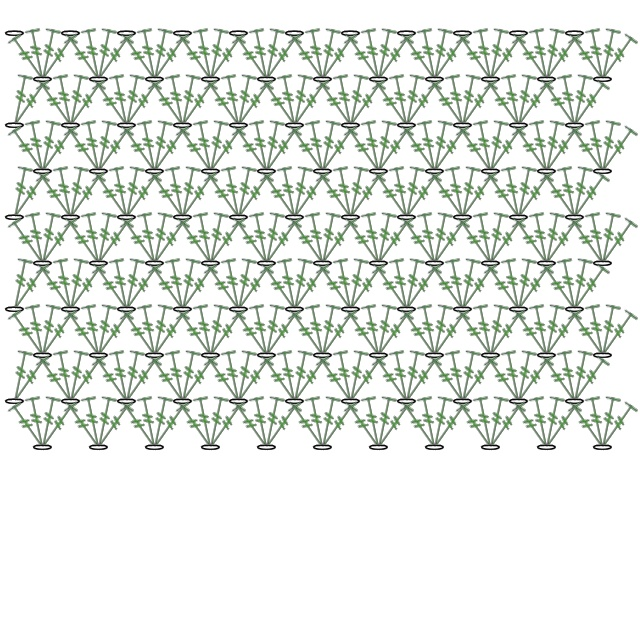chain: (4, 30, 26, 38), (60, 30, 82, 38), (116, 30, 138, 38), (172, 30, 194, 38), (228, 30, 250, 38), (284, 30, 306, 38), (340, 30, 362, 38), (396, 30, 418, 38), (452, 30, 474, 38), (508, 30, 530, 38), (564, 30, 586, 38), (32, 76, 54, 84), (88, 76, 110, 84), (144, 76, 166, 84), (200, 76, 222, 84), (256, 76, 278, 84), (312, 76, 334, 84), (368, 76, 390, 84), (424, 76, 446, 84), (480, 76, 502, 84), (536, 76, 558, 84), (592, 76, 614, 84), (4, 122, 26, 130), (60, 122, 82, 130), (116, 122, 138, 130), (172, 122, 194, 130), (228, 122, 250, 130), (284, 122, 306, 130), (340, 122, 362, 130), (396, 122, 418, 130), (452, 122, 474, 130), (508, 122, 530, 130), (564, 122, 586, 130), (32, 168, 54, 176), (88, 168, 110, 176), (144, 168, 166, 176), (200, 168, 222, 176), (256, 168, 278, 176), (312, 168, 334, 176), (368, 168, 390, 176), (424, 168, 446, 176), (480, 168, 502, 176), (536, 168, 558, 176), (592, 168, 614, 176), (4, 214, 26, 222), (60, 214, 82, 222), (116, 214, 138, 222), (172, 214, 194, 222), (228, 214, 250, 222), (284, 214, 306, 222), (340, 214, 362, 222), (396, 214, 418, 222), (452, 214, 474, 222), (508, 214, 530, 222), (564, 214, 586, 222), (32, 260, 54, 268), (88, 260, 110, 268), (144, 260, 166, 268), (200, 260, 222, 268), (256, 260, 278, 268), (312, 260, 334, 268), (368, 260, 390, 268), (424, 260, 446, 268), (480, 260, 502, 268), (536, 260, 558, 268), (592, 260, 614, 268), (4, 306, 26, 314), (60, 306, 82, 314), (116, 306, 138, 314), (172, 306, 194, 314), (228, 306, 250, 314), (284, 306, 306, 314), (340, 306, 362, 314), (396, 306, 418, 314), (452, 306, 474, 314), (508, 306, 530, 314), (564, 306, 586, 314), (32, 352, 54, 360), (88, 352, 110, 360), (144, 352, 166, 360), (200, 352, 222, 360), (256, 352, 278, 360), (312, 352, 334, 360), (368, 352, 390, 360), (424, 352, 446, 360), (480, 352, 502, 360), (536, 352, 558, 360), (592, 352, 614, 360), (4, 398, 26, 406), (60, 398, 82, 406), (116, 398, 138, 406), (172, 398, 194, 406), (228, 398, 250, 406), (284, 398, 306, 406), (340, 398, 362, 406), (396, 398, 418, 406), (452, 398, 474, 406), (508, 398, 530, 406), (564, 398, 586, 406), (32, 444, 54, 452), (88, 444, 110, 452), (144, 444, 166, 452), (200, 444, 222, 452), (256, 444, 278, 452), (312, 444, 334, 452), (368, 444, 390, 452), (424, 444, 446, 452), (480, 444, 502, 452), (536, 444, 558, 452), (592, 444, 614, 452)
fan: (6, 32, 50, 85), (36, 32, 80, 85), (62, 32, 106, 85), (92, 32, 136, 85), (118, 32, 162, 85), (148, 32, 192, 85), (174, 32, 218, 85), (204, 32, 248, 85), (230, 32, 274, 85), (260, 32, 304, 85), (286, 32, 330, 85), (316, 32, 360, 85), (342, 32, 386, 85), (372, 32, 416, 85), (398, 32, 442, 85), (428, 32, 472, 85), (454, 32, 498, 85), (484, 32, 528, 85), (510, 32, 554, 85), (540, 32, 584, 85), (566, 32, 610, 85), (596, 32, 640, 85), (8, 78, 52, 131), (34, 78, 78, 131), (64, 78, 108, 131), (90, 78, 134, 131), (120, 78, 164, 131), (146, 78, 190, 131), (176, 78, 220, 131), (202, 78, 246, 131), (232, 78, 276, 131), (258, 78, 302, 131), (288, 78, 332, 131), (314, 78, 358, 131), (344, 78, 388, 131), (370, 78, 414, 131), (400, 78, 444, 131), (426, 78, 470, 131), (456, 78, 500, 131), (482, 78, 526, 131), (512, 78, 556, 131), (538, 78, 582, 131), (568, 78, 612, 131), (6, 124, 50, 177), (36, 124, 80, 177), (62, 124, 106, 177), (92, 124, 136, 177), (118, 124, 162, 177), (148, 124, 192, 177), (174, 124, 218, 177), (204, 124, 248, 177), (230, 124, 274, 177), (260, 124, 304, 177), (286, 124, 330, 177), (316, 124, 360, 177), (342, 124, 386, 177), (372, 124, 416, 177), (398, 124, 442, 177), (428, 124, 472, 177), (454, 124, 498, 177), (484, 124, 528, 177), (510, 124, 554, 177), (540, 124, 584, 177), (566, 124, 610, 177), (596, 124, 640, 177), (8, 170, 52, 223), (34, 170, 78, 223), (64, 170, 108, 223), (90, 170, 134, 223), (120, 170, 164, 223), (146, 170, 190, 223), (176, 170, 220, 223), (202, 170, 246, 223), (232, 170, 276, 223), (258, 170, 302, 223), (288, 170, 332, 223), (314, 170, 358, 223), (344, 170, 388, 223), (370, 170, 414, 223), (400, 170, 444, 223), (426, 170, 470, 223), (456, 170, 500, 223), (482, 170, 526, 223), (512, 170, 556, 223), (538, 170, 582, 223), (568, 170, 612, 223), (6, 216, 50, 269), (36, 216, 80, 269), (62, 216, 106, 269), (92, 216, 136, 269), (118, 216, 162, 269), (148, 216, 192, 269), (174, 216, 218, 269), (204, 216, 248, 269), (230, 216, 274, 269), (260, 216, 304, 269), (286, 216, 330, 269), (316, 216, 360, 269), (342, 216, 386, 269), (372, 216, 416, 269), (398, 216, 442, 269), (428, 216, 472, 269), (454, 216, 498, 269), (484, 216, 528, 269), (510, 216, 554, 269), (540, 216, 584, 269), (566, 216, 610, 269), (596, 216, 640, 269), (8, 262, 52, 315), (34, 262, 78, 315), (64, 262, 108, 315), (90, 262, 134, 315), (120, 262, 164, 315), (146, 262, 190, 315), (176, 262, 220, 315), (202, 262, 246, 315), (232, 262, 276, 315), (258, 262, 302, 315), (288, 262, 332, 315), (314, 262, 358, 315), (344, 262, 388, 315), (370, 262, 414, 315), (400, 262, 444, 315), (426, 262, 470, 315), (456, 262, 500, 315), (482, 262, 526, 315), (512, 262, 556, 315), (538, 262, 582, 315), (568, 262, 612, 315), (6, 308, 50, 361), (36, 308, 80, 361), (62, 308, 106, 361), (92, 308, 136, 361), (118, 308, 162, 361), (148, 308, 192, 361), (174, 308, 218, 361), (204, 308, 248, 361), (230, 308, 274, 361), (260, 308, 304, 361), (286, 308, 330, 361), (316, 308, 360, 361), (342, 308, 386, 361), (372, 308, 416, 361), (398, 308, 442, 361), (428, 308, 472, 361), (454, 308, 498, 361), (484, 308, 528, 361), (510, 308, 554, 361), (540, 308, 584, 361), (566, 308, 610, 361), (596, 308, 640, 361), (8, 354, 52, 407), (34, 354, 78, 407), (64, 354, 108, 407), (90, 354, 134, 407), (120, 354, 164, 407), (146, 354, 190, 407), (176, 354, 220, 407), (202, 354, 246, 407), (232, 354, 276, 407), (258, 354, 302, 407), (288, 354, 332, 407), (314, 354, 358, 407), (344, 354, 388, 407), (370, 354, 414, 407), (400, 354, 444, 407), (426, 354, 470, 407), (456, 354, 500, 407), (482, 354, 526, 407), (512, 354, 556, 407), (538, 354, 582, 407), (568, 354, 612, 407), (6, 400, 50, 453), (36, 400, 80, 453), (62, 400, 106, 453), (92, 400, 136, 453), (118, 400, 162, 453), (148, 400, 192, 453), (174, 400, 218, 453), (204, 400, 248, 453), (230, 400, 274, 453), (260, 400, 304, 453), (286, 400, 330, 453), (316, 400, 360, 453), (342, 400, 386, 453), (372, 400, 416, 453), (398, 400, 442, 453), (428, 400, 472, 453), (454, 400, 498, 453), (484, 400, 528, 453), (510, 400, 554, 453), (540, 400, 584, 453), (566, 400, 610, 453), (596, 400, 640, 453), (24, 27, 52, 82), (34, 27, 62, 82), (80, 27, 108, 82), (90, 27, 118, 82), (136, 27, 164, 82), (146, 27, 174, 82), (192, 27, 220, 82), (202, 27, 230, 82), (248, 27, 276, 82), (258, 27, 286, 82), (304, 27, 332, 82), (314, 27, 342, 82), (360, 27, 388, 82), (370, 27, 398, 82), (416, 27, 444, 82), (426, 27, 454, 82), (472, 27, 500, 82), (482, 27, 510, 82), (528, 27, 556, 82), (538, 27, 566, 82), (584, 27, 612, 82), (594, 27, 622, 82), (6, 73, 34, 128), (52, 73, 80, 128), (62, 73, 90, 128), (108, 73, 136, 128), (118, 73, 146, 128), (164, 73, 192, 128), (174, 73, 202, 128), (220, 73, 248, 128), (230, 73, 258, 128), (276, 73, 304, 128), (286, 73, 314, 128), (332, 73, 360, 128), (342, 73, 370, 128), (388, 73, 416, 128), (398, 73, 426, 128), (444, 73, 472, 128), (454, 73, 482, 128), (500, 73, 528, 128), (510, 73, 538, 128), (556, 73, 584, 128), (566, 73, 594, 128), (24, 119, 52, 174), (34, 119, 62, 174), (80, 119, 108, 174), (90, 119, 118, 174), (136, 119, 164, 174), (146, 119, 174, 174), (192, 119, 220, 174), (202, 119, 230, 174), (248, 119, 276, 174), (258, 119, 286, 174), (304, 119, 332, 174), (314, 119, 342, 174), (360, 119, 388, 174), (370, 119, 398, 174), (416, 119, 444, 174), (426, 119, 454, 174), (472, 119, 500, 174), (482, 119, 510, 174), (528, 119, 556, 174), (538, 119, 566, 174), (584, 119, 612, 174), (594, 119, 622, 174), (6, 165, 34, 220), (52, 165, 80, 220), (62, 165, 90, 220), (108, 165, 136, 220), (118, 165, 146, 220), (164, 165, 192, 220), (174, 165, 202, 220), (220, 165, 248, 220), (230, 165, 258, 220), (276, 165, 304, 220), (286, 165, 314, 220), (332, 165, 360, 220), (342, 165, 370, 220), (388, 165, 416, 220), (398, 165, 426, 220), (444, 165, 472, 220), (454, 165, 482, 220), (500, 165, 528, 220), (510, 165, 538, 220), (556, 165, 584, 220), (566, 165, 594, 220), (24, 211, 52, 266), (34, 211, 62, 266), (80, 211, 108, 266), (90, 211, 118, 266), (136, 211, 164, 266), (146, 211, 174, 266), (192, 211, 220, 266), (202, 211, 230, 266), (248, 211, 276, 266), (258, 211, 286, 266), (304, 211, 332, 266), (314, 211, 342, 266), (360, 211, 388, 266), (370, 211, 398, 266), (416, 211, 444, 266), (426, 211, 454, 266), (472, 211, 500, 266), (482, 211, 510, 266), (528, 211, 556, 266), (538, 211, 566, 266), (584, 211, 612, 266), (594, 211, 622, 266), (6, 257, 34, 312), (52, 257, 80, 312), (62, 257, 90, 312), (108, 257, 136, 312), (118, 257, 146, 312), (164, 257, 192, 312), (174, 257, 202, 312), (220, 257, 248, 312), (230, 257, 258, 312), (276, 257, 304, 312), (286, 257, 314, 312), (332, 257, 360, 312), (342, 257, 370, 312), (388, 257, 416, 312), (398, 257, 426, 312), (444, 257, 472, 312), (454, 257, 482, 312), (500, 257, 528, 312), (510, 257, 538, 312), (556, 257, 584, 312), (566, 257, 594, 312), (24, 303, 52, 358), (34, 303, 62, 358), (80, 303, 108, 358), (90, 303, 118, 358), (136, 303, 164, 358), (146, 303, 174, 358), (192, 303, 220, 358), (202, 303, 230, 358), (248, 303, 276, 358), (258, 303, 286, 358), (304, 303, 332, 358), (314, 303, 342, 358), (360, 303, 388, 358), (370, 303, 398, 358), (416, 303, 444, 358), (426, 303, 454, 358), (472, 303, 500, 358), (482, 303, 510, 358), (528, 303, 556, 358), (538, 303, 566, 358), (584, 303, 612, 358), (594, 303, 622, 358), (6, 349, 34, 404), (52, 349, 80, 404), (62, 349, 90, 404), (108, 349, 136, 404), (118, 349, 146, 404), (164, 349, 192, 404), (174, 349, 202, 404), (220, 349, 248, 404), (230, 349, 258, 404), (276, 349, 304, 404), (286, 349, 314, 404), (332, 349, 360, 404), (342, 349, 370, 404), (388, 349, 416, 404), (398, 349, 426, 404), (444, 349, 472, 404), (454, 349, 482, 404), (500, 349, 528, 404), (510, 349, 538, 404), (556, 349, 584, 404), (566, 349, 594, 404), (24, 395, 52, 450), (34, 395, 62, 450), (80, 395, 108, 450), (90, 395, 118, 450), (136, 395, 164, 450), (146, 395, 174, 450), (192, 395, 220, 450), (202, 395, 230, 450), (248, 395, 276, 450), (258, 395, 286, 450), (304, 395, 332, 450), (314, 395, 342, 450), (360, 395, 388, 450), (370, 395, 398, 450), (416, 395, 444, 450), (426, 395, 454, 450), (472, 395, 500, 450), (482, 395, 510, 450), (528, 395, 556, 450), (538, 395, 566, 450), (584, 395, 612, 450), (594, 395, 622, 450)
